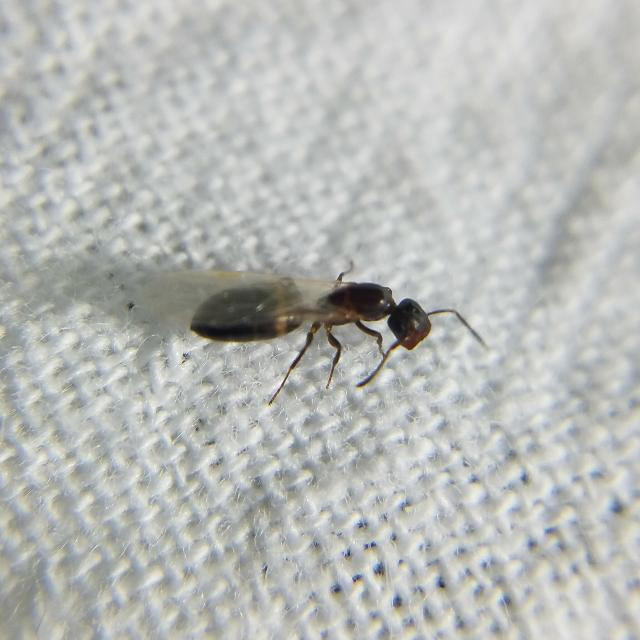Colobopsis: (173, 240, 469, 382)
